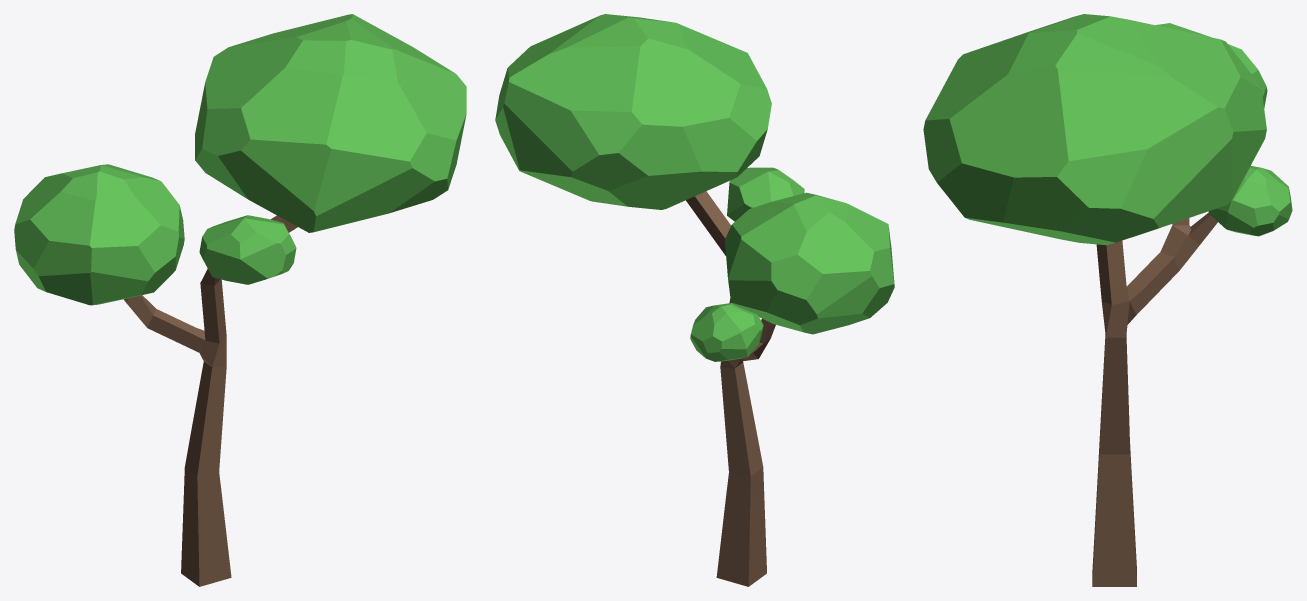
The model's file is Pohon 2 Fix.fbx.
3 renders of one model, left to right at view 1: azimuth 30°, elevation 25°; view 2: azimuth 150°, elevation 25°; view 3: azimuth 270°, elevation 25°, orthographic. The views are drawn at different scales.
Visible parts, largest first — view 1: Icosphere.003, Icosphere.001, Vert, Icosphere.005; view 2: Icosphere.003, Icosphere.001, Vert, Icosphere.002, Icosphere.005; view 3: Icosphere.003, Vert, Icosphere.002, Icosphere.001.
Part boxes in pixels (box(x1,y1,x2,y2)): Icosphere.003: box(195, 14, 466, 232); Icosphere.001: box(14, 164, 184, 305); Vert: box(124, 215, 297, 586); Icosphere.005: box(199, 215, 296, 284); Icosphere.003: box(495, 14, 771, 209); Icosphere.001: box(725, 192, 894, 334); Vert: box(686, 191, 775, 586); Icosphere.002: box(690, 303, 763, 361); Icosphere.005: box(727, 167, 804, 221); Icosphere.003: box(923, 14, 1266, 245); Vert: box(1092, 213, 1217, 586); Icosphere.002: box(1208, 166, 1292, 236); Icosphere.001: box(1155, 23, 1267, 108).
Bounding box in the file's own units: 448 × 544 × 293.
